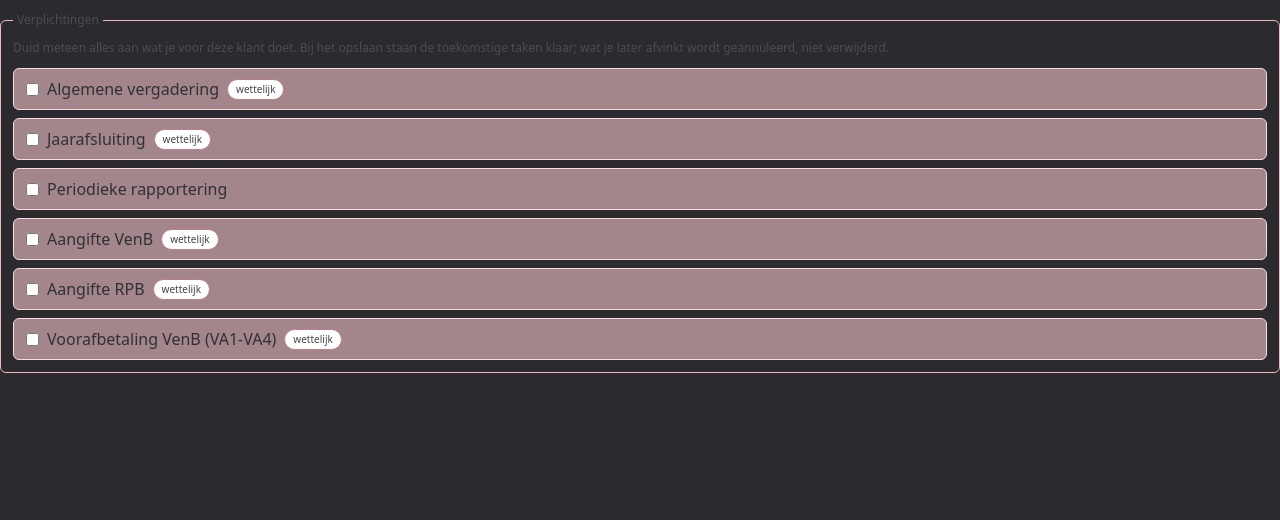
Scenario: ObligationPicker — de jaarafsluiting voor de algemene vergadering › wisselt naar het AV-getal en laat de doorlooptijd verdwijnen
The image size is (1280, 520).
Click the checkbox labelled "Jaarafsluiting wettelijk" at (32,139), box [26,132,39,146]
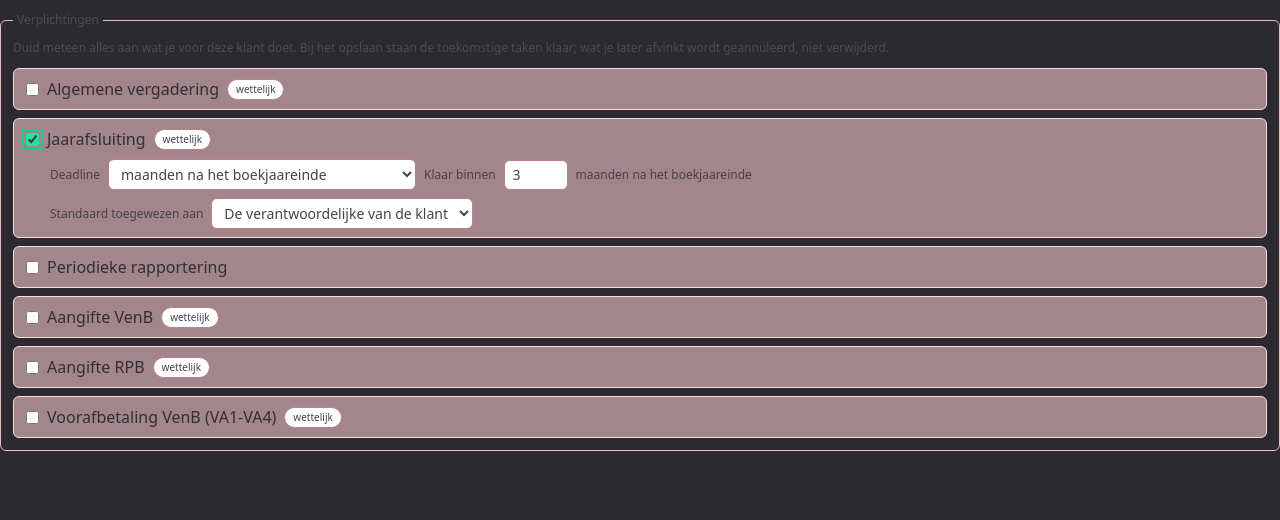
Select "maanden voor de algemene vergadering" in the dropdown named "Deadline jaarafsluiting" at (262,174), box [108,159,416,190]
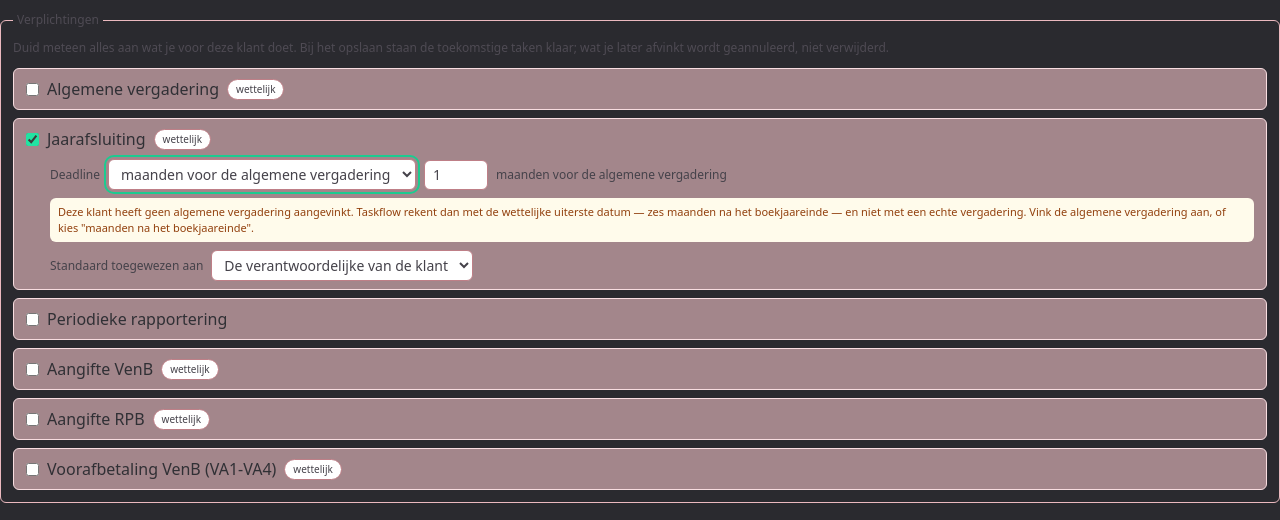
Expected: the number field labelled "maanden voor de algemene vergadering" holds "1", [424,160,488,190]
